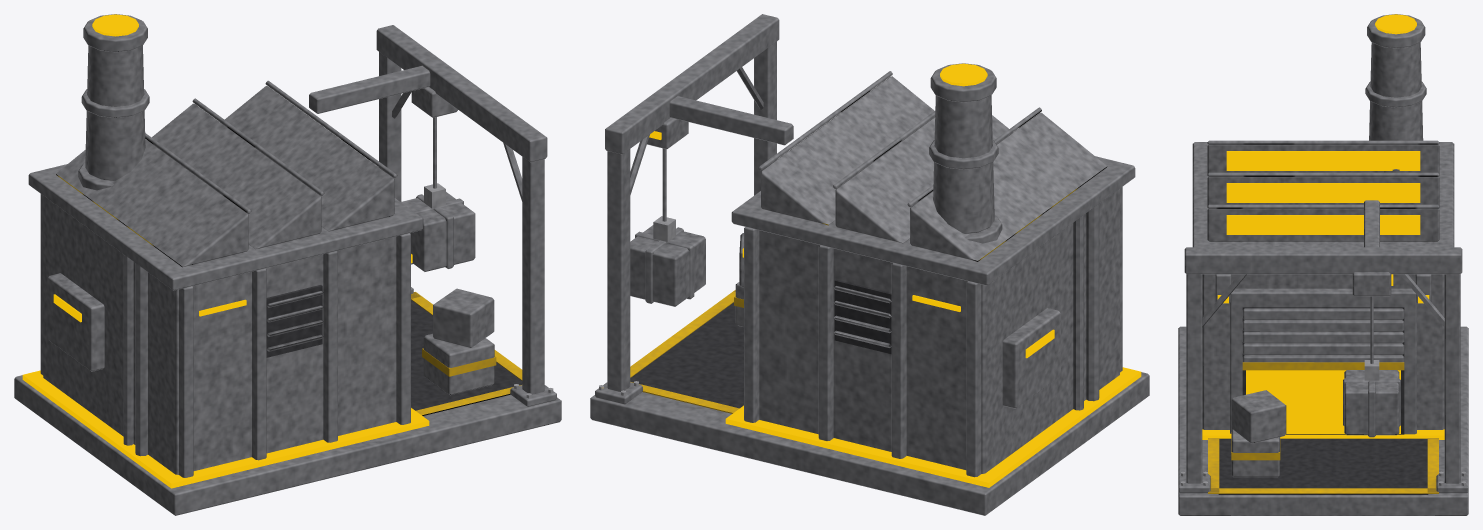
File: nodexeus-forge.glb
3 views of the same model, side by side, from view 1: azimuth 30°, elevation 25°; view 2: azimuth 150°, elevation 25°; view 3: azimuth 270°, elevation 25° (orthographic). The views are drawn at different scales.
Visible parts, largest first — view 1: forge; view 2: forge; view 3: forge.
Part boxes in pixels (x1,y1,x2,y2): forge: (14,14,561,515); forge: (590,14,1149,515); forge: (1178,14,1468,515).
Bounding box in the file's own units: 2.55 × 2.39 × 1.8.
1 material, 1 textured.
